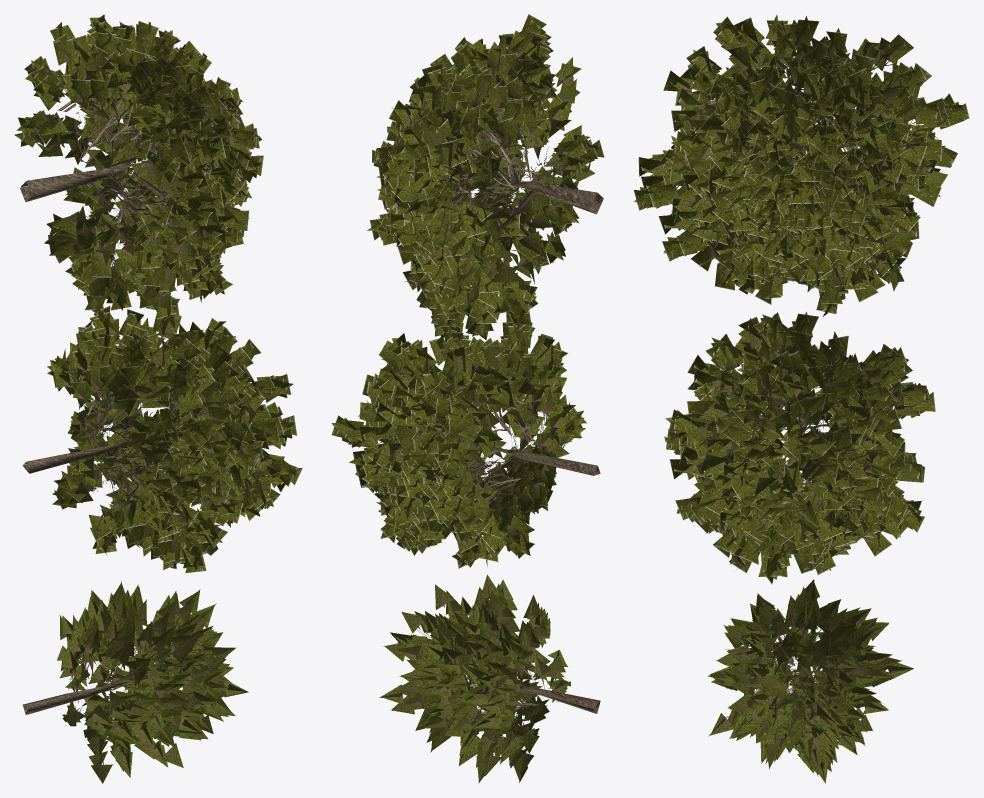
File: tree-animate-f0f9eb.glb
3 views of the same model, side by side, from view 1: azimuth 30°, elevation 25°; view 2: azimuth 150°, elevation 25°; view 3: azimuth 270°, elevation 25° (orthographic). The views are drawn at different scales.
Parts seen in each view (by area): view 1: PropMesh; view 2: PropMesh; view 3: PropMesh.
Boxes of the visible parts, x1,y1,x2,y2 form: PropMesh: (14, 14, 302, 783); PropMesh: (331, 14, 604, 783); PropMesh: (633, 14, 969, 783).
Bounding box in the file's own units: 0.7754 × 2.2 × 0.8863.
Materials: 3 (3 with a texture image).
